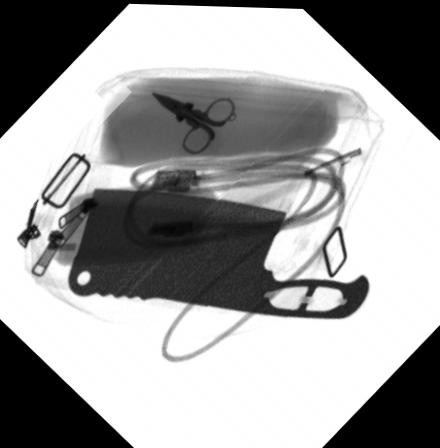Knife: (65, 186, 371, 316)
Scissors: (150, 91, 235, 156)
